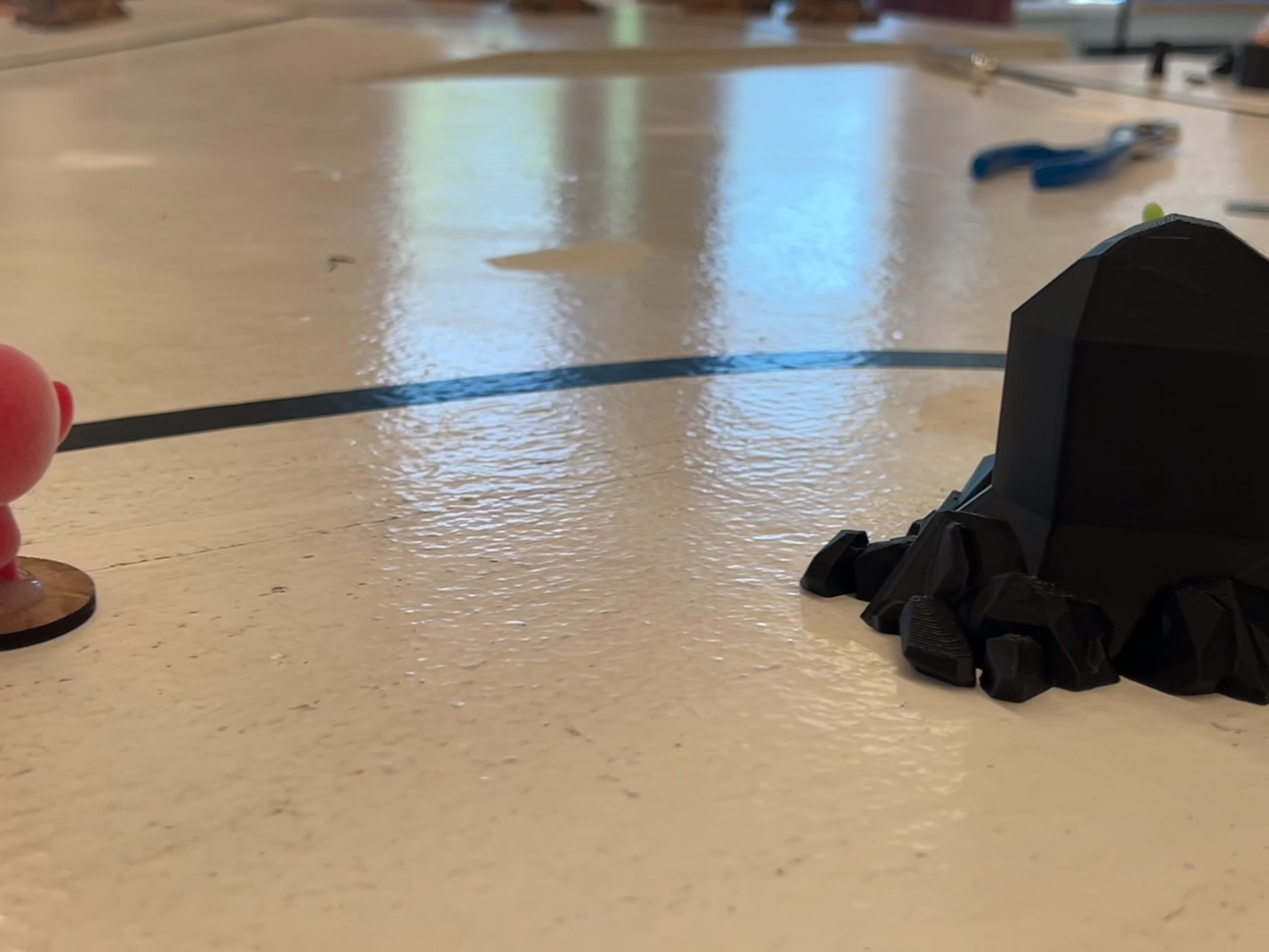teletubby: (0, 344, 73, 579), (1143, 203, 1163, 221)
